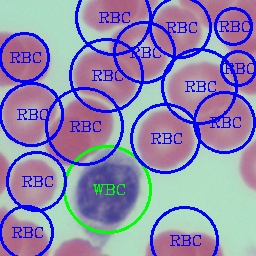RBC: (67, 44, 140, 108), (130, 106, 198, 173), (0, 80, 61, 149), (163, 58, 234, 117), (191, 88, 255, 152), (104, 19, 168, 83), (58, 92, 117, 156), (0, 28, 54, 89), (148, 3, 204, 60), (4, 155, 60, 211), (40, 115, 96, 169), (216, 0, 255, 56), (1, 216, 53, 255), (78, 0, 137, 33), (222, 42, 255, 98)
WBC: (66, 148, 143, 244)
